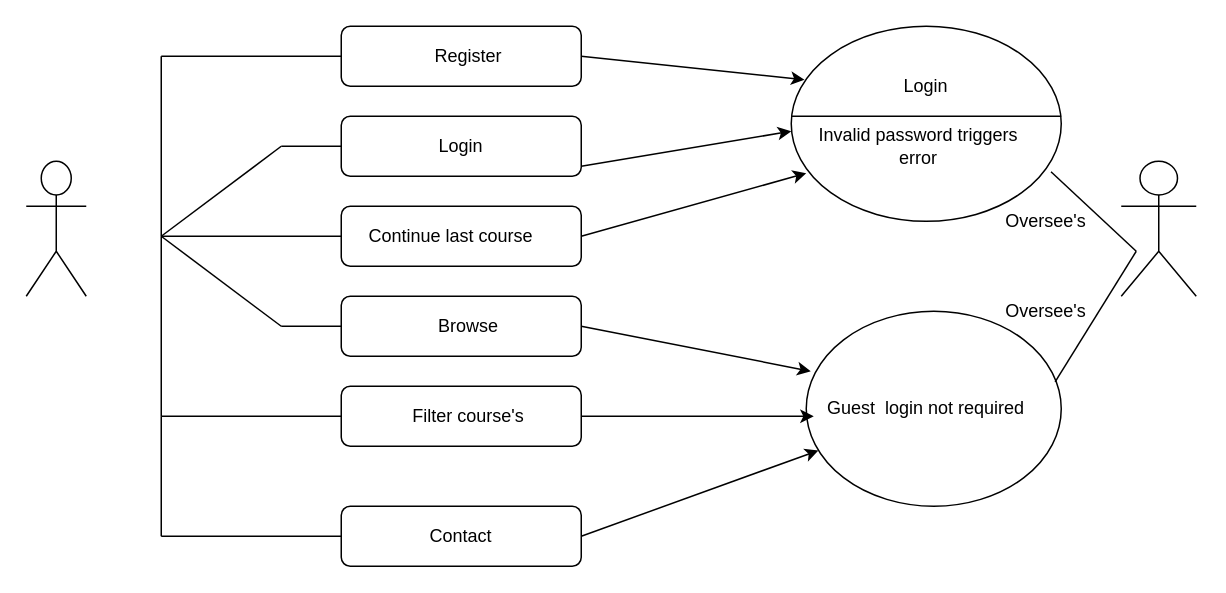
Image size: 1226x593. Some labels were removed from this diagram. Here are the shapes that lost their labels. From the top down, the centre of each, then its label:
At point 55,228: "User".
At point 1158,228: "Moderator".
